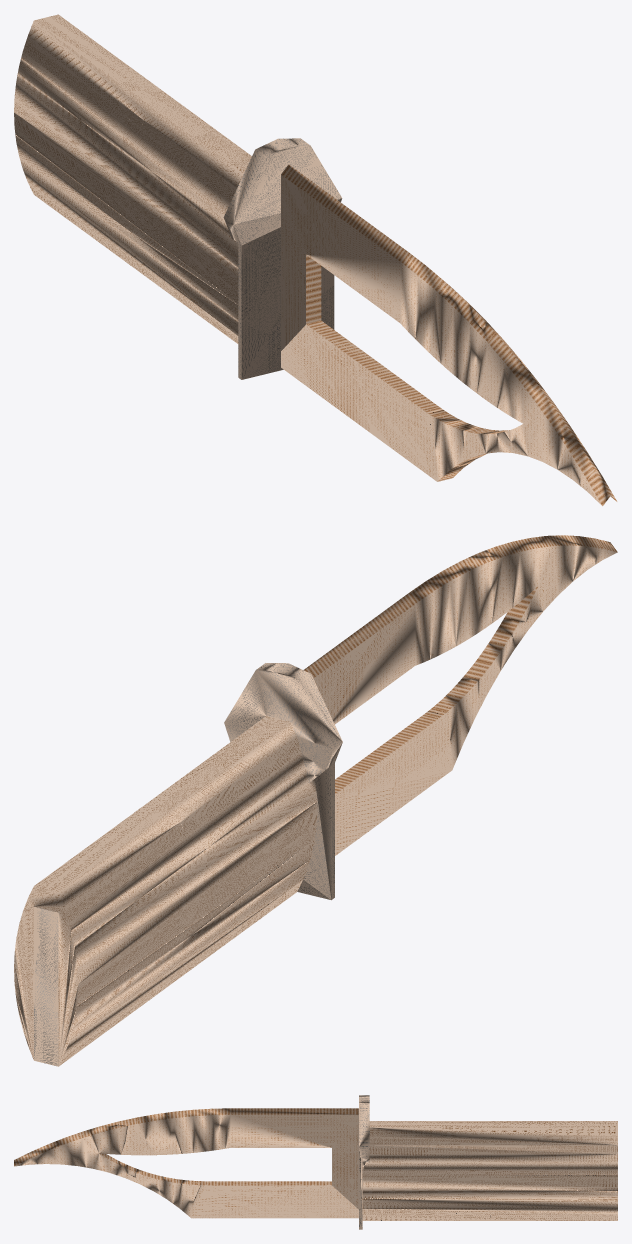
File: model_align.obj
3 views of the same model, one above another, from view 1: azimuth 30°, elevation 25°; view 2: azimuth 150°, elevation 25°; view 3: azimuth 270°, elevation 25° (orthographic). The views are drawn at different scales.
Size of the model in its own units: 0.025 by 0.049 by 0.2245.
